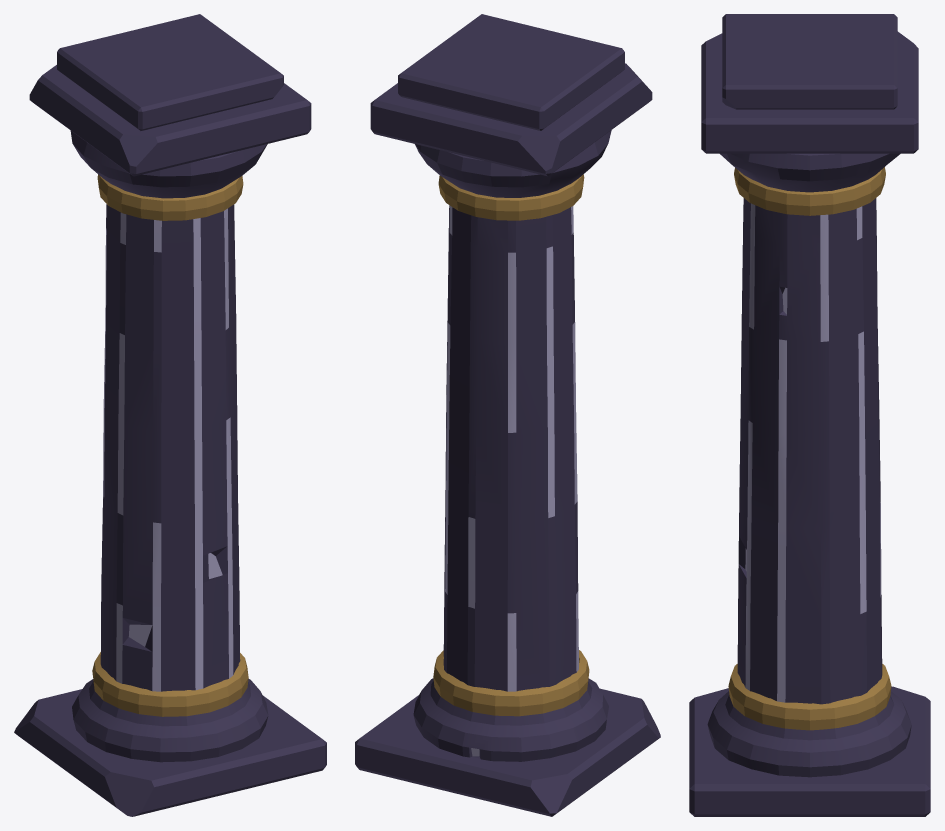
File: column-obsidian-0.glb
The picture shows the model from 3 angles, left to right: view 1: azimuth 30°, elevation 25°; view 2: azimuth 150°, elevation 25°; view 3: azimuth 270°, elevation 25°; orthographic projection. The views are drawn at different scales.
Visible parts, largest first — view 1: column-obsidian-0; view 2: column-obsidian-0; view 3: column-obsidian-0.
Boxes of the visible parts, x1,y1,x2,y2 form: column-obsidian-0: (14, 14, 326, 816); column-obsidian-0: (355, 14, 660, 816); column-obsidian-0: (689, 14, 930, 816).
Size of the model in its own units: 0.7999 by 2.62 by 0.7999.
